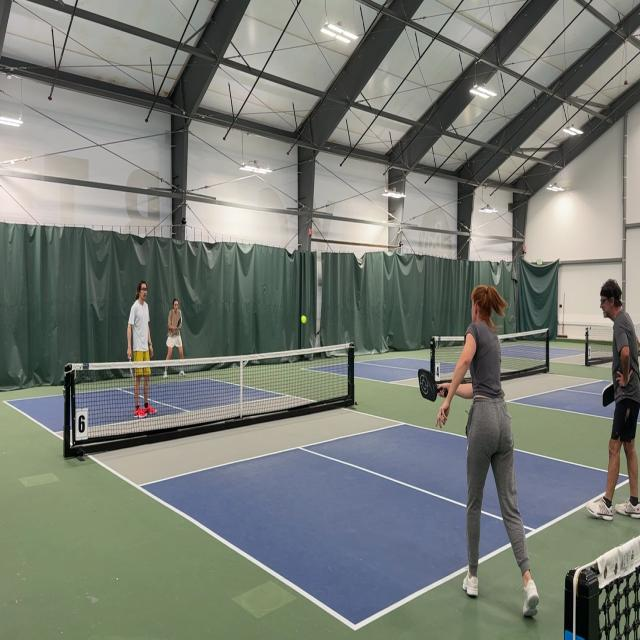ball: (300, 314, 307, 325)
